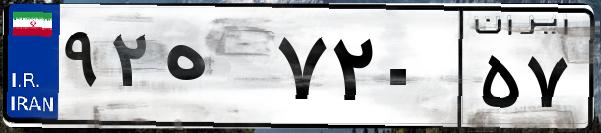0: (385, 28, 445, 110)
2: (330, 28, 385, 110), (110, 28, 158, 98)
5: (475, 38, 525, 113)
7: (270, 28, 330, 110), (525, 38, 570, 115)
9: (57, 26, 110, 100)
ه: (158, 20, 270, 120)
